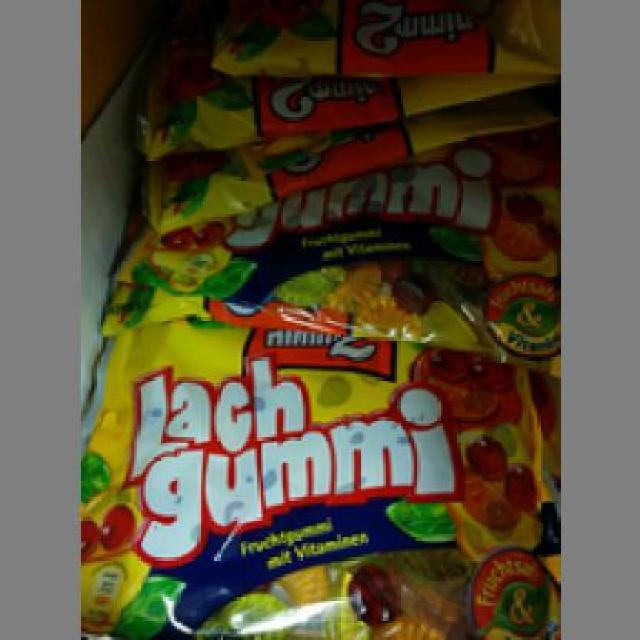Candy: (79, 312, 552, 638)
